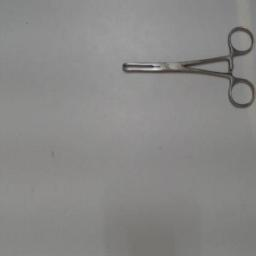Allis Tissue Forceps: (116, 21, 256, 115)
